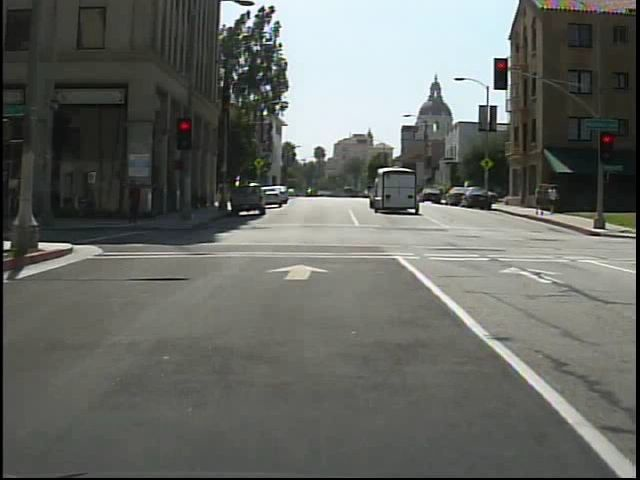person: (127, 183, 146, 224), (533, 183, 548, 218), (545, 184, 561, 216)
